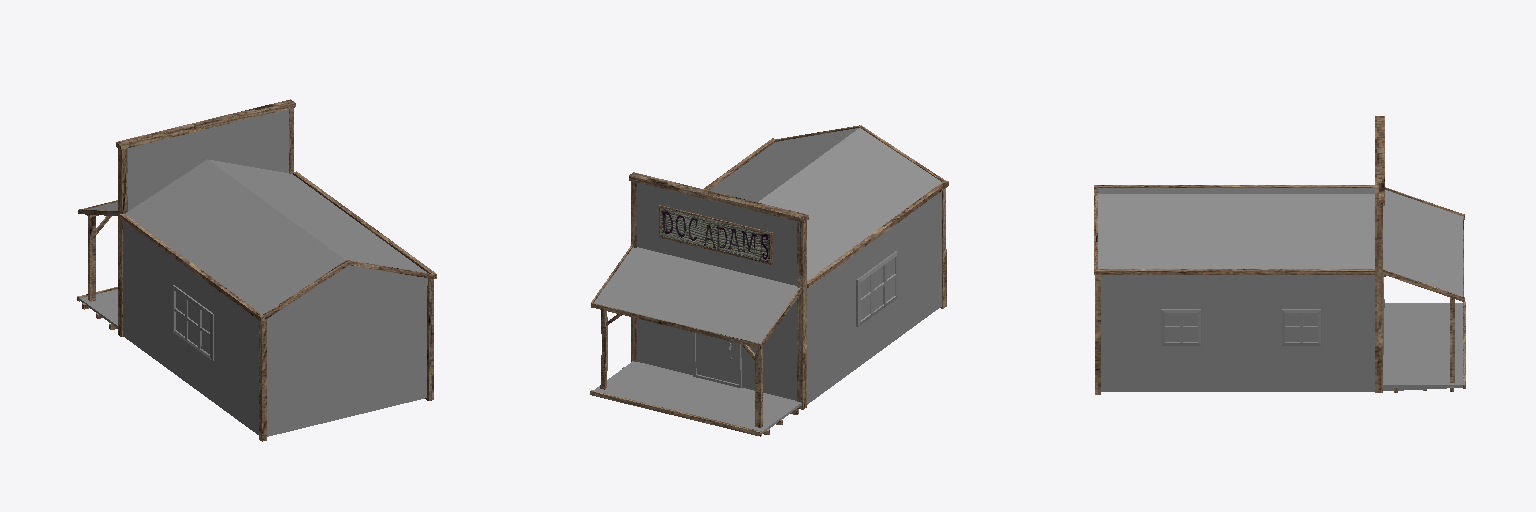
3 renders of one model, left to right at view 1: azimuth 30°, elevation 25°; view 2: azimuth 150°, elevation 25°; view 3: azimuth 270°, elevation 25°, orthographic.
Visible parts, largest first — view 1: Object001; view 2: Object001; view 3: Object001.
Part boxes in pixels (bbox=[...]): Object001: bbox=[77, 99, 436, 441]; Object001: bbox=[590, 125, 948, 436]; Object001: bbox=[1094, 116, 1465, 394].
Bounding box in the file's own units: 64.49 × 67.79 × 118.
7 materials, 1 textured.